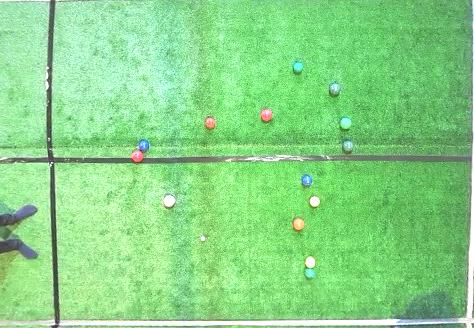blue: (301, 174, 312, 187), (139, 140, 150, 150)
green: (340, 117, 352, 130), (342, 139, 354, 152), (329, 83, 341, 95), (303, 269, 316, 279), (293, 63, 303, 73)
red: (293, 218, 305, 231), (261, 109, 273, 121), (163, 195, 175, 207), (132, 150, 143, 162), (205, 117, 215, 129)
vline: (1, 1, 61, 327), (463, 1, 473, 327)
white: (201, 236, 205, 241)
yellow: (309, 196, 320, 207), (305, 256, 315, 268)
